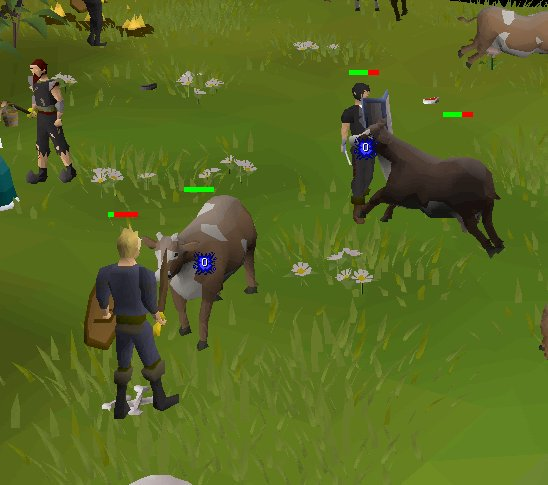rs_cow: (360, 121, 505, 255), (151, 195, 267, 354), (458, 1, 548, 70)
rs_healthbar: (344, 68, 381, 78), (183, 185, 217, 194), (103, 212, 139, 219), (439, 111, 473, 117)
rs_player: (83, 224, 180, 417), (25, 55, 83, 191), (339, 85, 378, 223)
